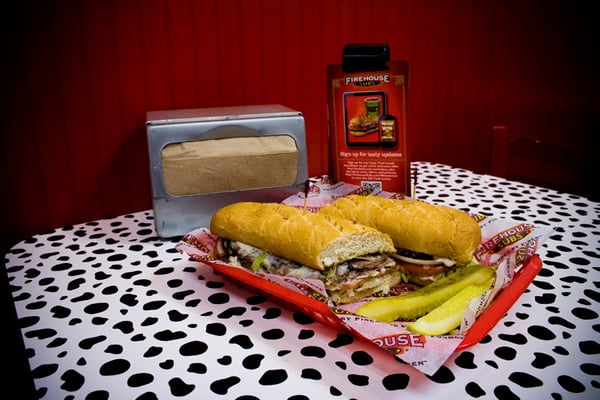soup: (315, 193, 540, 337)
